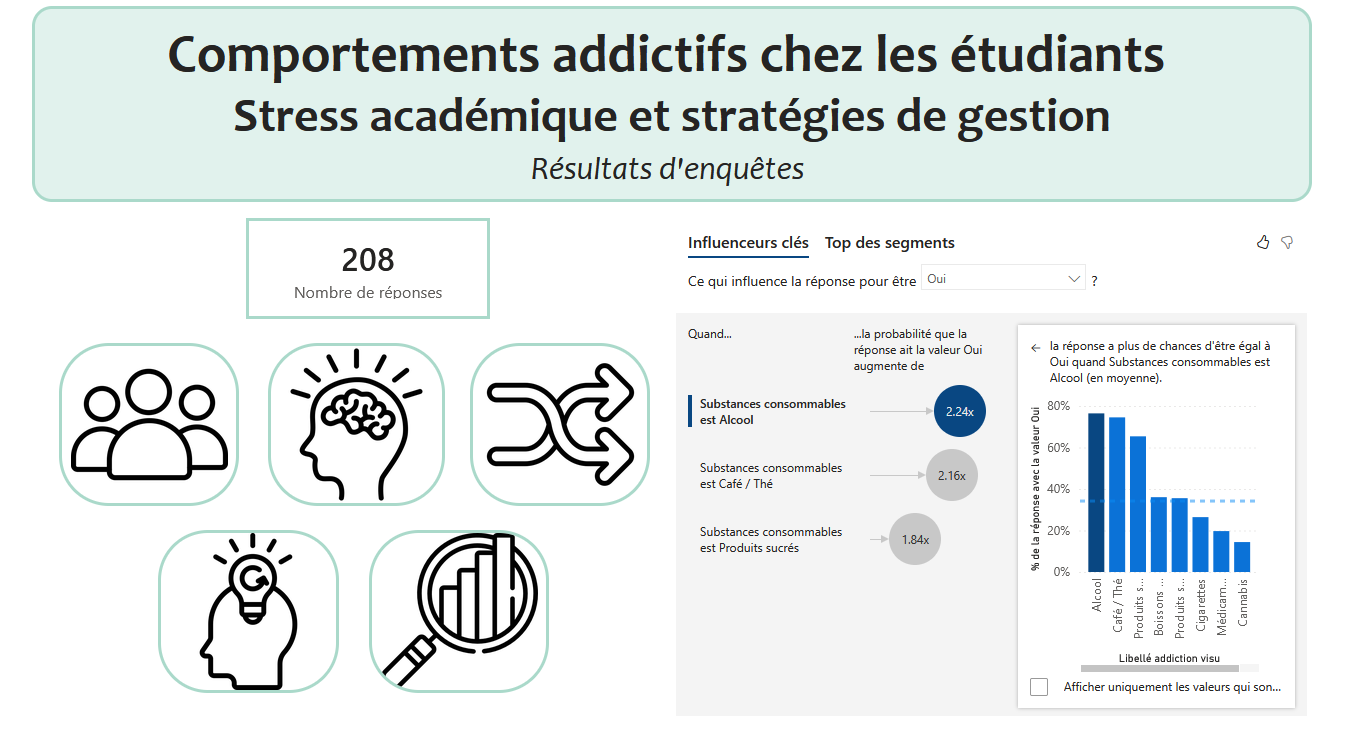

What the dashboard file says about the page in this screenshot:
{"tool":"powerbi","page":{"name":"Menu","canvas":[1280,720],"ordinal":0},"visuals":[{"type":"cardVisual","fields":{"Data":["CountNonNull(REPONDANT.id repondant)"]},"box":[213.9,212.2,244.2,101.1],"z":0},{"type":"textbox","box":[0,0,1280,196],"z":2000},{"type":"image","box":[26.9,336.8,180.2,163.4],"z":3000},{"type":"image","box":[235.8,336.8,176.8,163.4],"z":4000},{"type":"image","box":[437.9,336.8,180.2,163.4],"z":5000},{"type":"keyDriversVisual","fields":{"Target":["FACT_CONSOMMATION.consommation flag"],"ExplainBy":["DIM_ADDICTION.Libellé addiction visu"]},"box":[639.3,212.2,641.1,502.4],"z":6000},{"type":"image","box":[126.3,523.8,180.2,163.4],"z":7000},{"type":"image","box":[336.8,523.8,180.2,163.4],"z":8000}]}

Visuals, with their boxes on the page's 1280x720 design canvas (x1, y1, x2, y2). These are canvas units, not pixel positions in the 1350x736 screenshot, which may show the page scaled, cropped or inside an application window:
cardVisual - CountNonNull(REPONDANT.id repondant): locate(214, 212, 458, 313)
textbox: locate(0, 0, 1280, 196)
image: locate(27, 337, 207, 500)
image: locate(236, 337, 413, 500)
image: locate(438, 337, 618, 500)
keyDriversVisual - FACT_CONSOMMATION.consommation flag x DIM_ADDICTION.Libellé addiction visu: locate(639, 212, 1280, 715)
image: locate(126, 524, 306, 687)
image: locate(337, 524, 517, 687)
